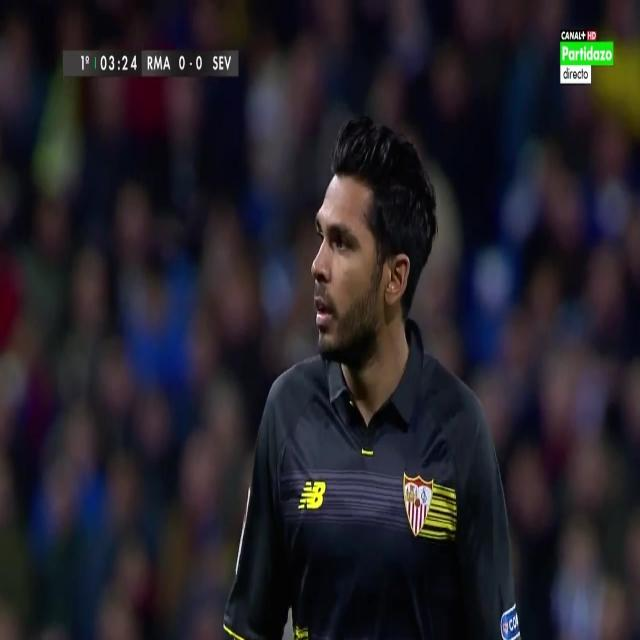Player: (223, 105, 526, 640)
